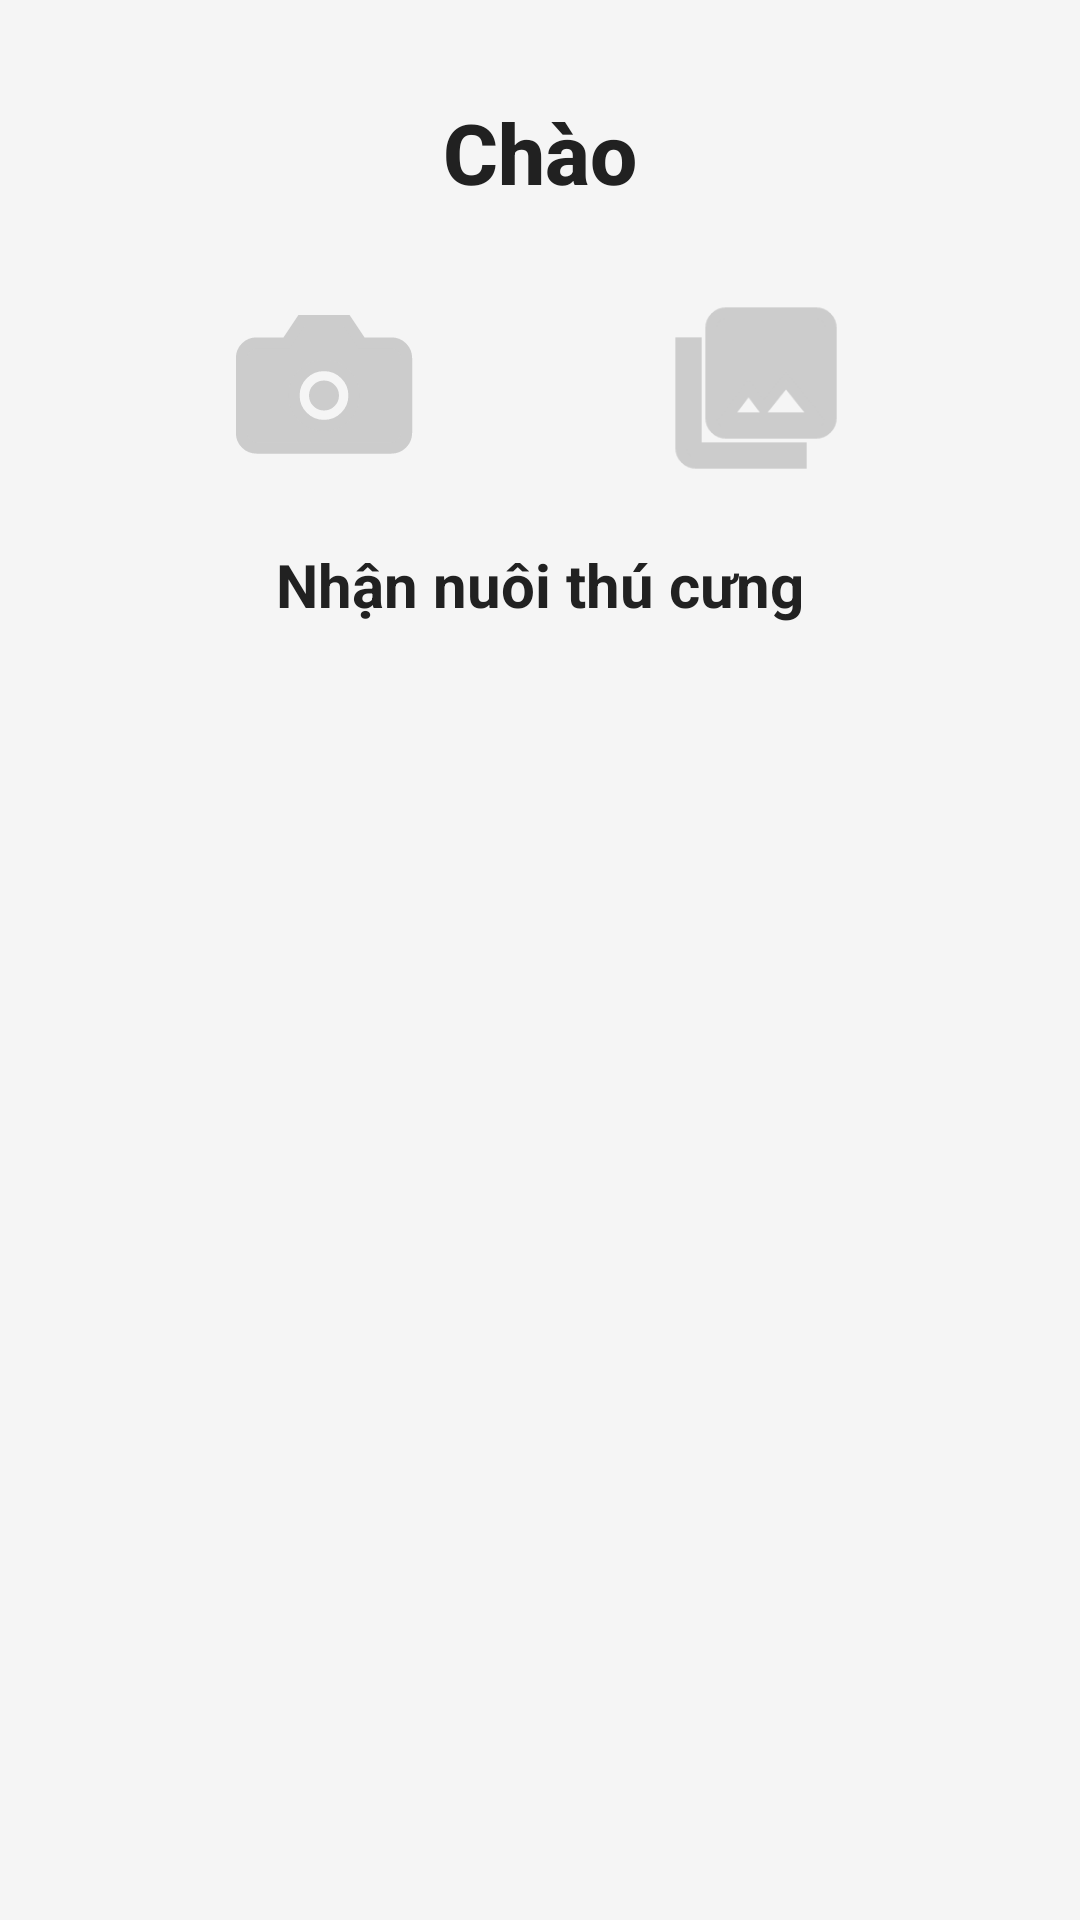

Point at icon controls on the screen. Image size 1080px×1920px, points as [x,y].
Chọn ảnh: [756,388]
Chụp ảnh: [324,384]
